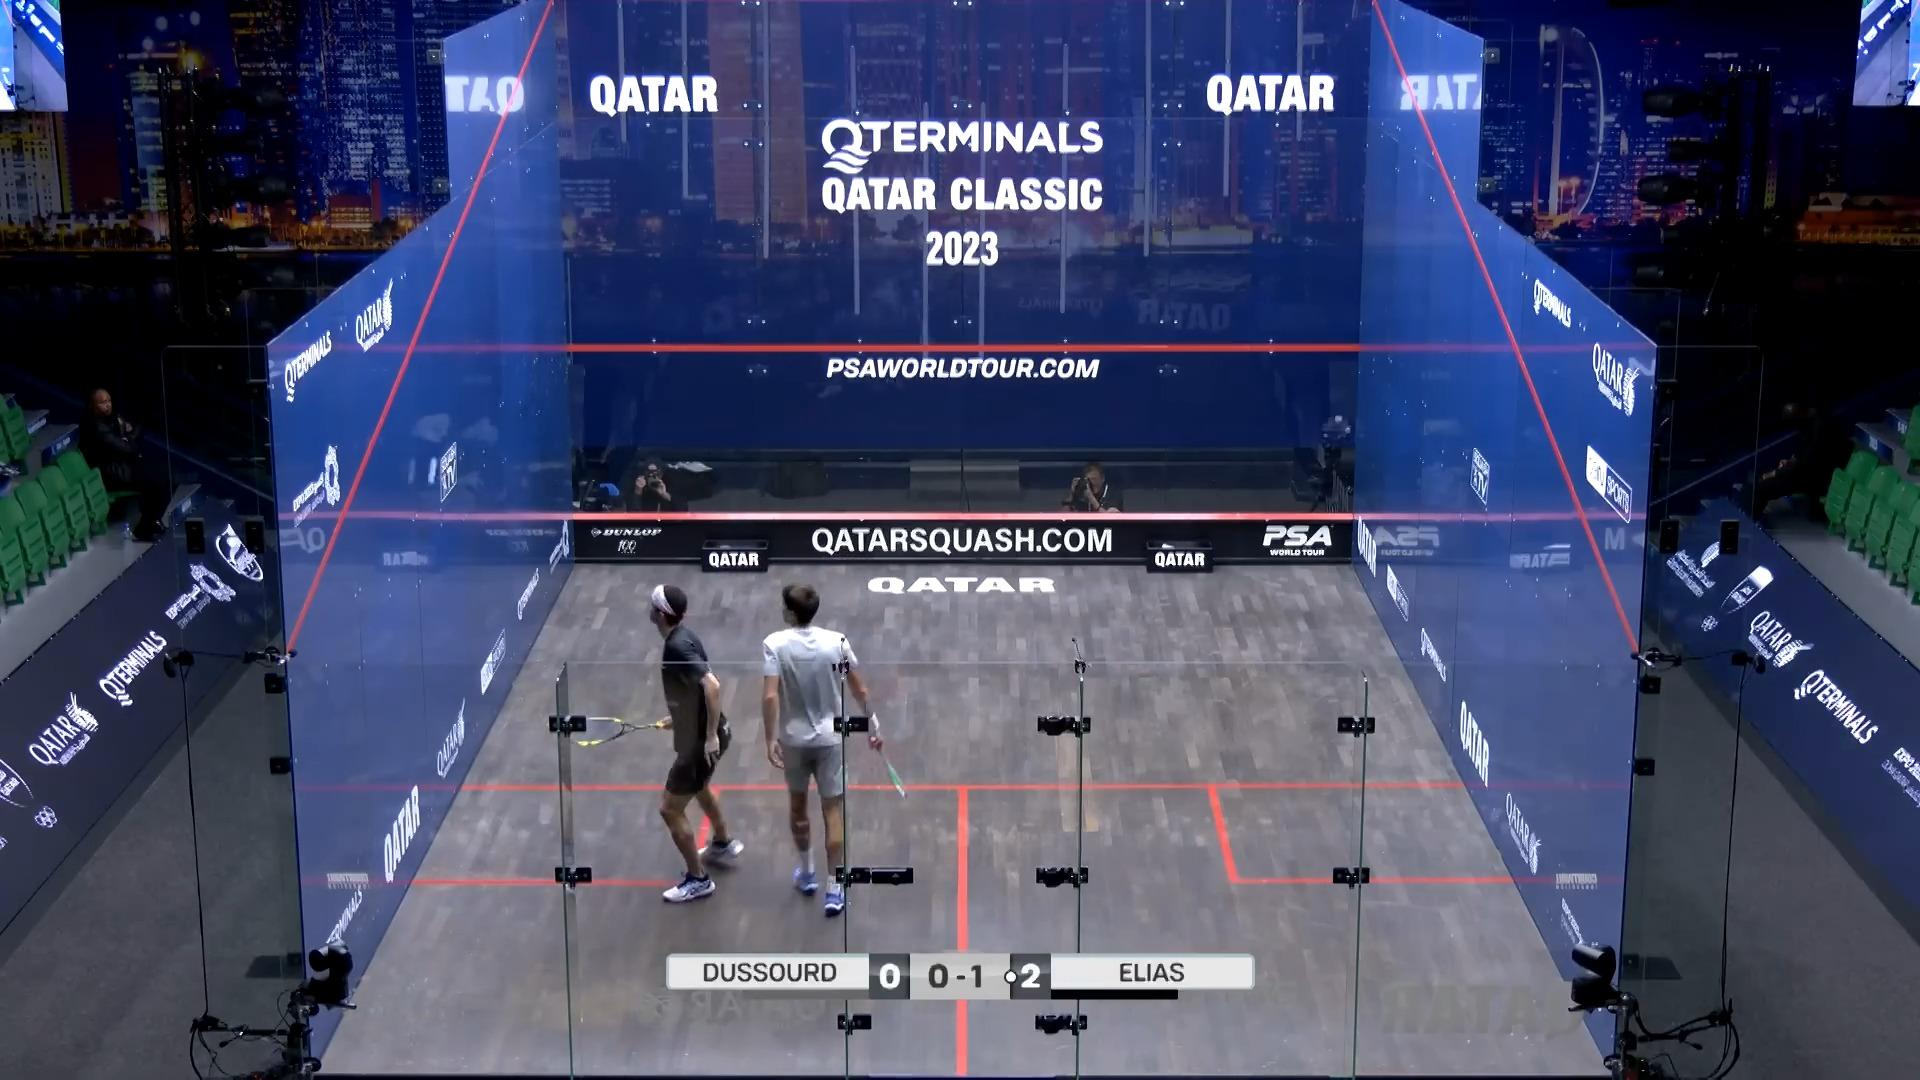Racket: (579, 707, 655, 758), (868, 757, 934, 804)
